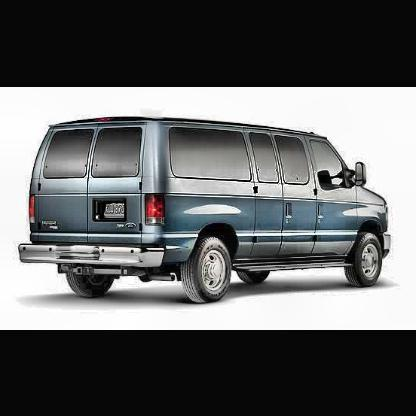Ford E-Series Wagon Van 2012: (21, 118, 394, 303)
